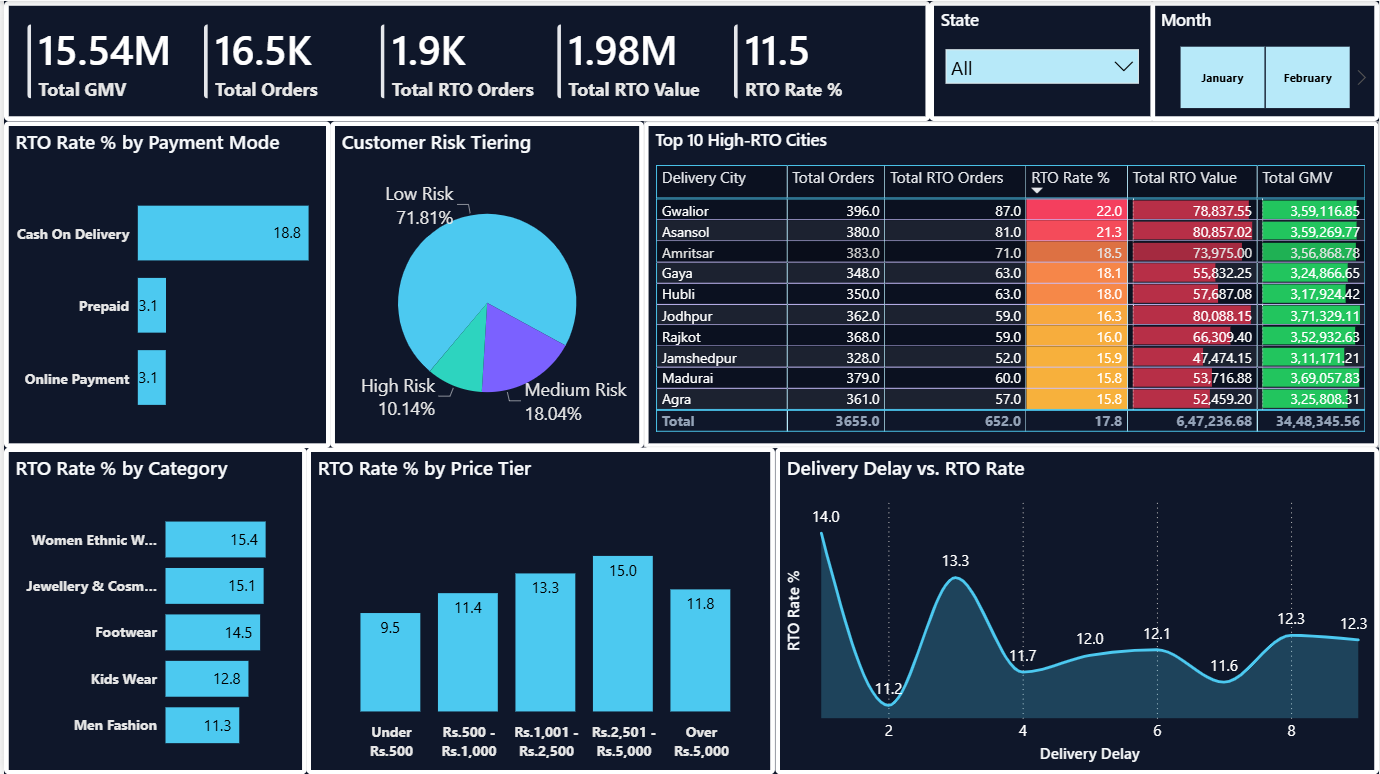

The dashboard page shown, as its layout file describes it:
{"tool":"powerbi","page":{"name":"Page 1","canvas":[1440,810],"ordinal":0},"visuals":[{"type":"cardVisual","fields":{"Data":["Measures (2).Total GMV","Measures (2).Total Orders","Measures (2).Total RTO Orders","Measures (2).Total RTO Value","Measures (2).RTO Rate %"]},"box":[0,0,969.8,126],"z":0},{"type":"clusteredBarChart","title":"RTO Rate % by Payment Mode","fields":{"Category":["orders.payment_mode"],"Y":["Measures (2).RTO Rate %"]},"box":[0,126,342,342],"z":1000},{"type":"clusteredBarChart","title":"RTO Rate % by Category","fields":{"Y":["Measures (2).RTO Rate %"],"Category":["products.category"]},"box":[0,468,317.2,342],"z":2000},{"type":"tableEx","title":"Top 10 High-RTO Cities","fields":{"Values":["orders.delivery_city","Measures (2).Total Orders","Measures (2).Total RTO Orders","Measures (2).RTO Rate %","Measures (2).Total RTO Value","Measures (2).Total GMV"]},"box":[670.5,126,769.5,342],"z":3000},{"type":"slicer","title":"Month","fields":{"Values":["orders.order_datetime.Variation.Date Hierarchy.Month"]},"box":[1199.2,0,240.8,126],"z":4000},{"type":"slicer","title":"State","fields":{"Values":["orders.delivery_state"]},"box":[969.8,0,236.2,126],"z":5000},{"type":"clusteredColumnChart","title":"RTO Rate % by Price Tier","fields":{"Category":["orders.Order Value Bucket"],"Y":["Measures (2).RTO Rate %"]},"box":[317.2,468,490.5,342],"z":6000},{"type":"lineChart","title":"Delivery Delay vs. RTO Rate","fields":{"Y":["Measures (2).RTO Rate %"],"Category":["orders.tat_days"]},"box":[807.8,468,632.2,342],"z":7000},{"type":"pieChart","title":"Customer Risk Tiering","fields":{"Category":["customers.Customer Risk Tier Column"],"Y":["Count(customers.customer_id)"]},"box":[342,126,328.5,342],"z":8000}]}

Visuals, with their boxes in screenshot pixels (x1, y1, x2, y2), scaled from the page's 1440x810 canvas onto the 1380x774 screenshot:
cardVisual - Measures (2).Total GMV x Measures (2).Total Orders: box=[0, 0, 929, 120]
"RTO Rate % by Payment Mode" clusteredBarChart: box=[0, 120, 328, 447]
"RTO Rate % by Category" clusteredBarChart: box=[0, 447, 304, 773]
"Top 10 High-RTO Cities" tableEx: box=[643, 120, 1379, 447]
"Month" slicer: box=[1149, 0, 1379, 120]
"State" slicer: box=[929, 0, 1156, 120]
"RTO Rate % by Price Tier" clusteredColumnChart: box=[304, 447, 774, 773]
"Delivery Delay vs. RTO Rate" lineChart: box=[774, 447, 1379, 773]
"Customer Risk Tiering" pieChart: box=[328, 120, 643, 447]
